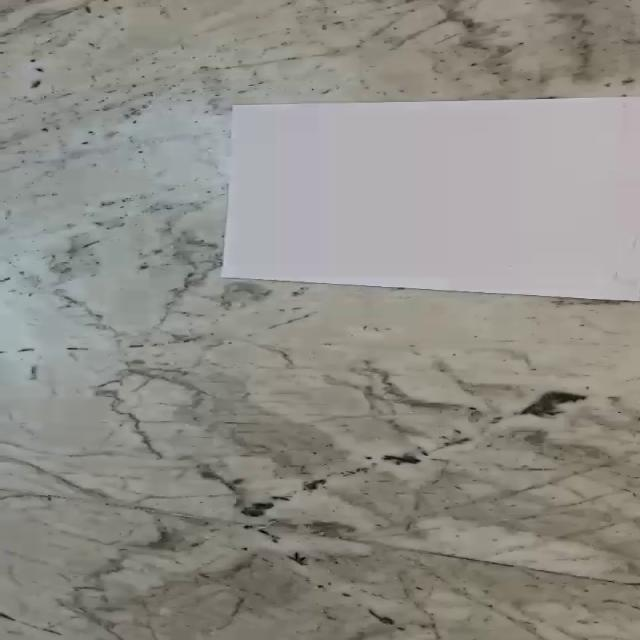road: (223, 97, 640, 303)
